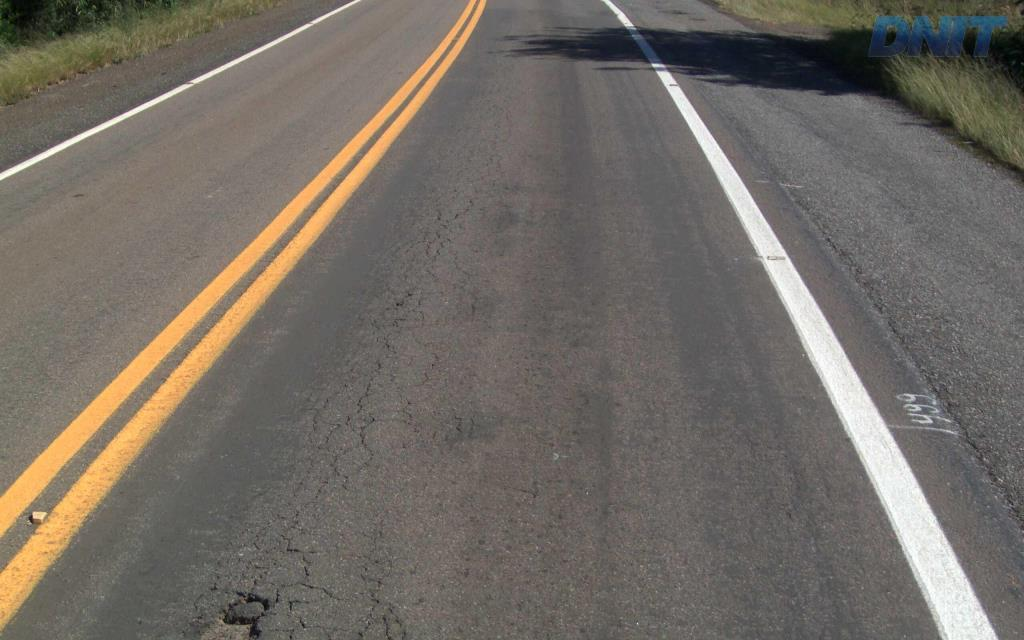crack: (215, 587, 282, 639)
pothole: (198, 577, 272, 638)
